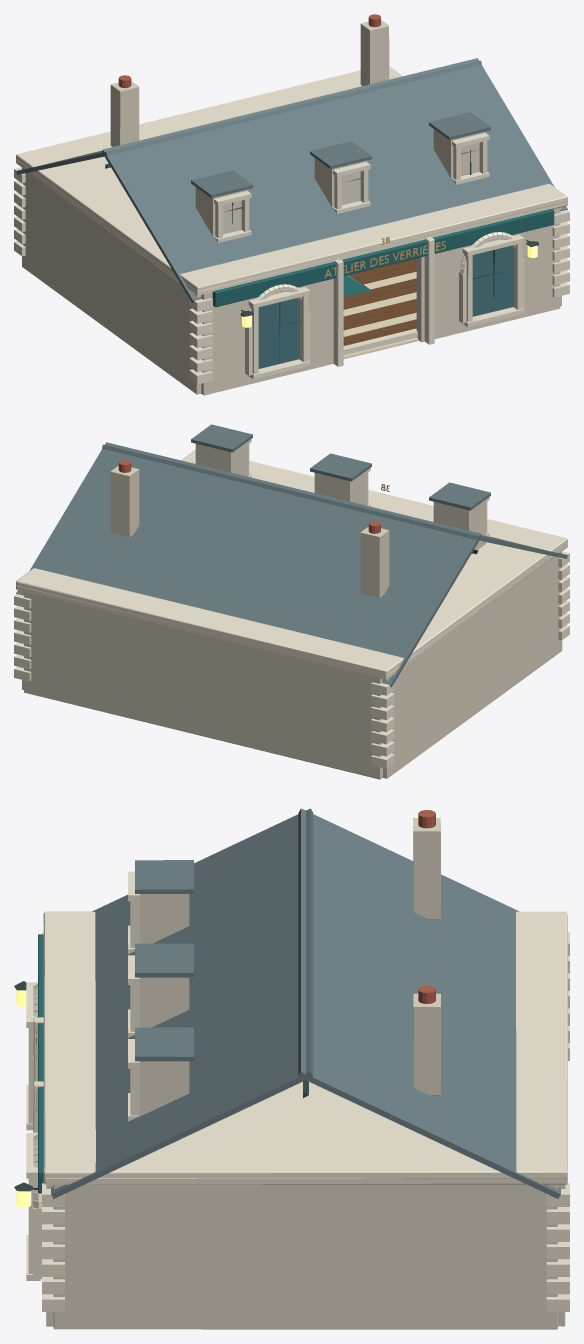
The model's file is Atelier-lod.glb.
The picture shows the model from 3 angles, top to bottom: view 1: azimuth 30°, elevation 25°; view 2: azimuth 150°, elevation 25°; view 3: azimuth 270°, elevation 25°; orthographic projection. The views are drawn at different scales.
Parts seen in each view (by area): view 1: Atelier_Zinc slate.001, Atelier_Carved ivory.001, Atelier_Paris limestone.001, Atelier_3B petrol.001, Atelier_Window blue.001, Atelier_Walnut.001, Atelier_Canvas ivory.001, Atelier_Brushed champagne.001, Atelier_Forged midnight.001; view 2: Atelier_Paris limestone.001, Atelier_Zinc slate.001, Atelier_Carved ivory.001; view 3: Atelier_Zinc slate.001, Atelier_Paris limestone.001, Atelier_Carved ivory.001, Atelier_3B petrol.001.
Part boxes in pixels (<box>): Atelier_Zinc slate.001: <box>16,58,567,302</box>; Atelier_Carved ivory.001: <box>14,66,569,393</box>; Atelier_Paris limestone.001: <box>22,20,562,395</box>; Atelier_3B petrol.001: <box>212,209,554,307</box>; Atelier_Window blue.001: <box>258,245,513,368</box>; Atelier_Walnut.001: <box>343,258,416,345</box>; Atelier_Canvas ivory.001: <box>343,271,418,357</box>; Atelier_Brushed champagne.001: <box>324,237,445,286</box>; Atelier_Forged midnight.001: <box>105,149,538,362</box>; Atelier_Paris limestone.001: <box>22,441,562,779</box>; Atelier_Zinc slate.001: <box>16,424,567,687</box>; Atelier_Carved ivory.001: <box>14,439,569,778</box>; Atelier_Zinc slate.001: <box>51,808,560,1198</box>; Atelier_Paris limestone.001: <box>46,818,565,1329</box>; Atelier_Carved ivory.001: <box>26,871,569,1326</box>; Atelier_3B petrol.001: <box>38,934,43,1193</box>.
Size of the model in its own units: 21 by 11.15 by 18.72.
